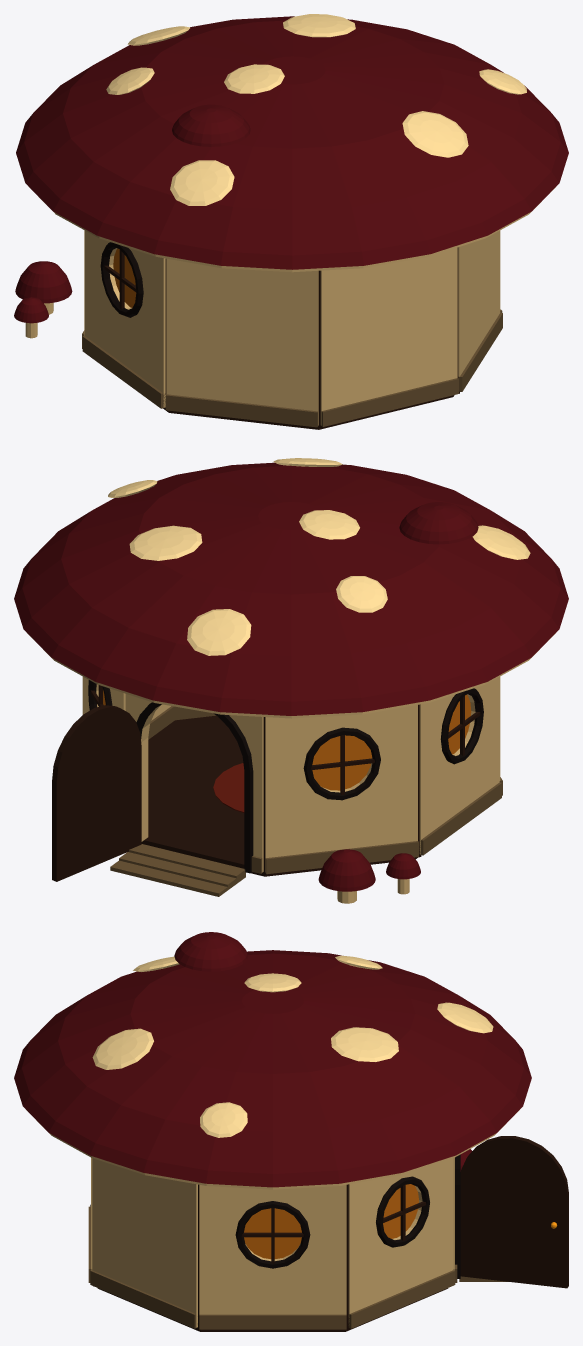
Rendered from mushroom-visual.obj.
The picture shows the model from 3 angles, top to bottom: view 1: azimuth 30°, elevation 25°; view 2: azimuth 150°, elevation 25°; view 3: azimuth 270°, elevation 25°; orthographic projection. The views are drawn at different scales.
Parts seen in each view (by area): view 1: MushroomCap, Wall_03, Wall_04, Wall_02, Wall_05, ChimneyCap, Plinth_3_0, Plinth_4_0, RaisedSpot_3, RaisedSpot_4, BabyCap_0, Plinth_2_0 (+11 smaller); view 2: MushroomCap, Wall_01, Door_Open, Floor, Wall_02, Wall_00, ChimneyCap, RaisedSpot_0, WindowGlass_1, RaisedSpot_2, Plinth_1_0, BabyCap_0 (+14 smaller); view 3: MushroomCap, Wall_06, Door_Open, Wall_05, Wall_07, Plinth_6_0, ChimneyCap, WindowGlass_6, RaisedSpot_2, RaisedSpot_4, Plinth_7_0, Plinth_5_0 (+9 smaller).
Part boxes in pixels (bbox=[...]): MushroomCap: bbox=[16, 16, 568, 269]; Wall_03: bbox=[166, 258, 318, 425]; Wall_04: bbox=[320, 247, 457, 425]; Wall_02: bbox=[85, 231, 165, 407]; Wall_05: bbox=[458, 230, 500, 376]; ChimneyCap: bbox=[172, 104, 250, 146]; Plinth_3_0: bbox=[165, 394, 318, 427]; Plinth_4_0: bbox=[321, 378, 458, 426]; RaisedSpot_3: bbox=[170, 160, 234, 205]; RaisedSpot_4: bbox=[402, 111, 468, 157]; BabyCap_0: bbox=[15, 261, 72, 303]; Plinth_2_0: bbox=[82, 336, 165, 408]; MushroomCap: bbox=[14, 462, 568, 715]; Wall_01: bbox=[265, 705, 417, 871]; Door_Open: bbox=[52, 705, 141, 881]; Floor: bbox=[141, 715, 417, 876]; Wall_02: bbox=[419, 677, 499, 854]; Wall_00: bbox=[125, 694, 263, 871]; ChimneyCap: bbox=[399, 502, 478, 544]; RaisedSpot_0: bbox=[187, 609, 251, 655]; WindowGlass_1: bbox=[312, 735, 371, 790]; RaisedSpot_2: bbox=[129, 525, 202, 560]; Plinth_1_0: bbox=[265, 841, 418, 874]; BabyCap_0: bbox=[318, 849, 375, 891]; MushroomCap: bbox=[14, 950, 531, 1187]; Wall_06: bbox=[199, 1185, 346, 1314]; Door_Open: bbox=[460, 1136, 568, 1288]; Wall_05: bbox=[92, 1158, 197, 1327]; Wall_07: bbox=[348, 1158, 453, 1324]; Plinth_6_0: bbox=[199, 1314, 346, 1329]; ChimneyCap: bbox=[174, 932, 248, 971]; WindowGlass_6: bbox=[244, 1208, 301, 1259]; RaisedSpot_2: bbox=[331, 1027, 398, 1061]; RaisedSpot_4: bbox=[92, 1028, 153, 1069]; Plinth_7_0: bbox=[348, 1270, 455, 1328]; Plinth_5_0: bbox=[90, 1270, 197, 1328].
Bounding box in the file's own units: 25.2 × 14.4 × 27.
